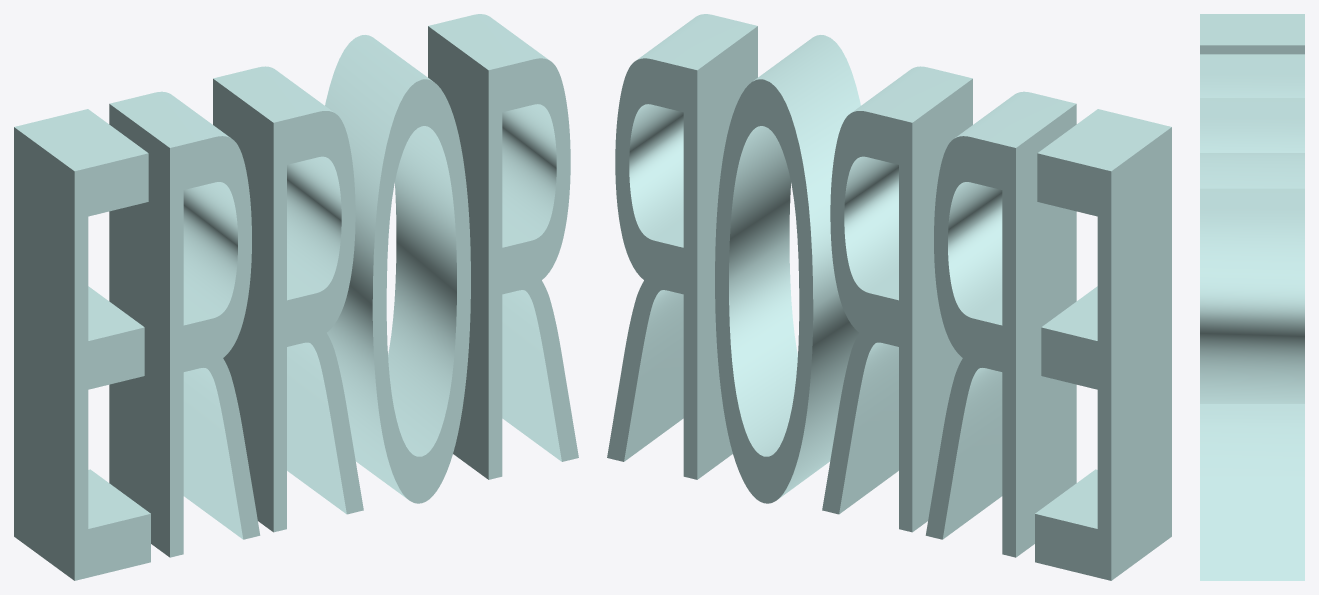
The model's file is error.fbx.
3 renders of one model, left to right at view 1: azimuth 30°, elevation 25°; view 2: azimuth 150°, elevation 25°; view 3: azimuth 270°, elevation 25°, orthographic. The views are drawn at different scales.
Visible parts, largest first — view 1: waypoint; view 2: waypoint; view 3: waypoint.
Boxes of the visible parts, <box> form: waypoint: <box>14,14,578,580</box>; waypoint: <box>607,14,1171,580</box>; waypoint: <box>1200,14,1304,580</box>.
Bounding box in the file's own units: 390 × 313 × 81.21.
